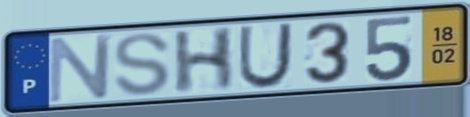3: (301, 19, 353, 86)
5: (363, 13, 416, 83)
H: (171, 25, 238, 97)
N: (46, 31, 116, 105)
S: (110, 31, 173, 98)
U: (235, 20, 296, 91)
